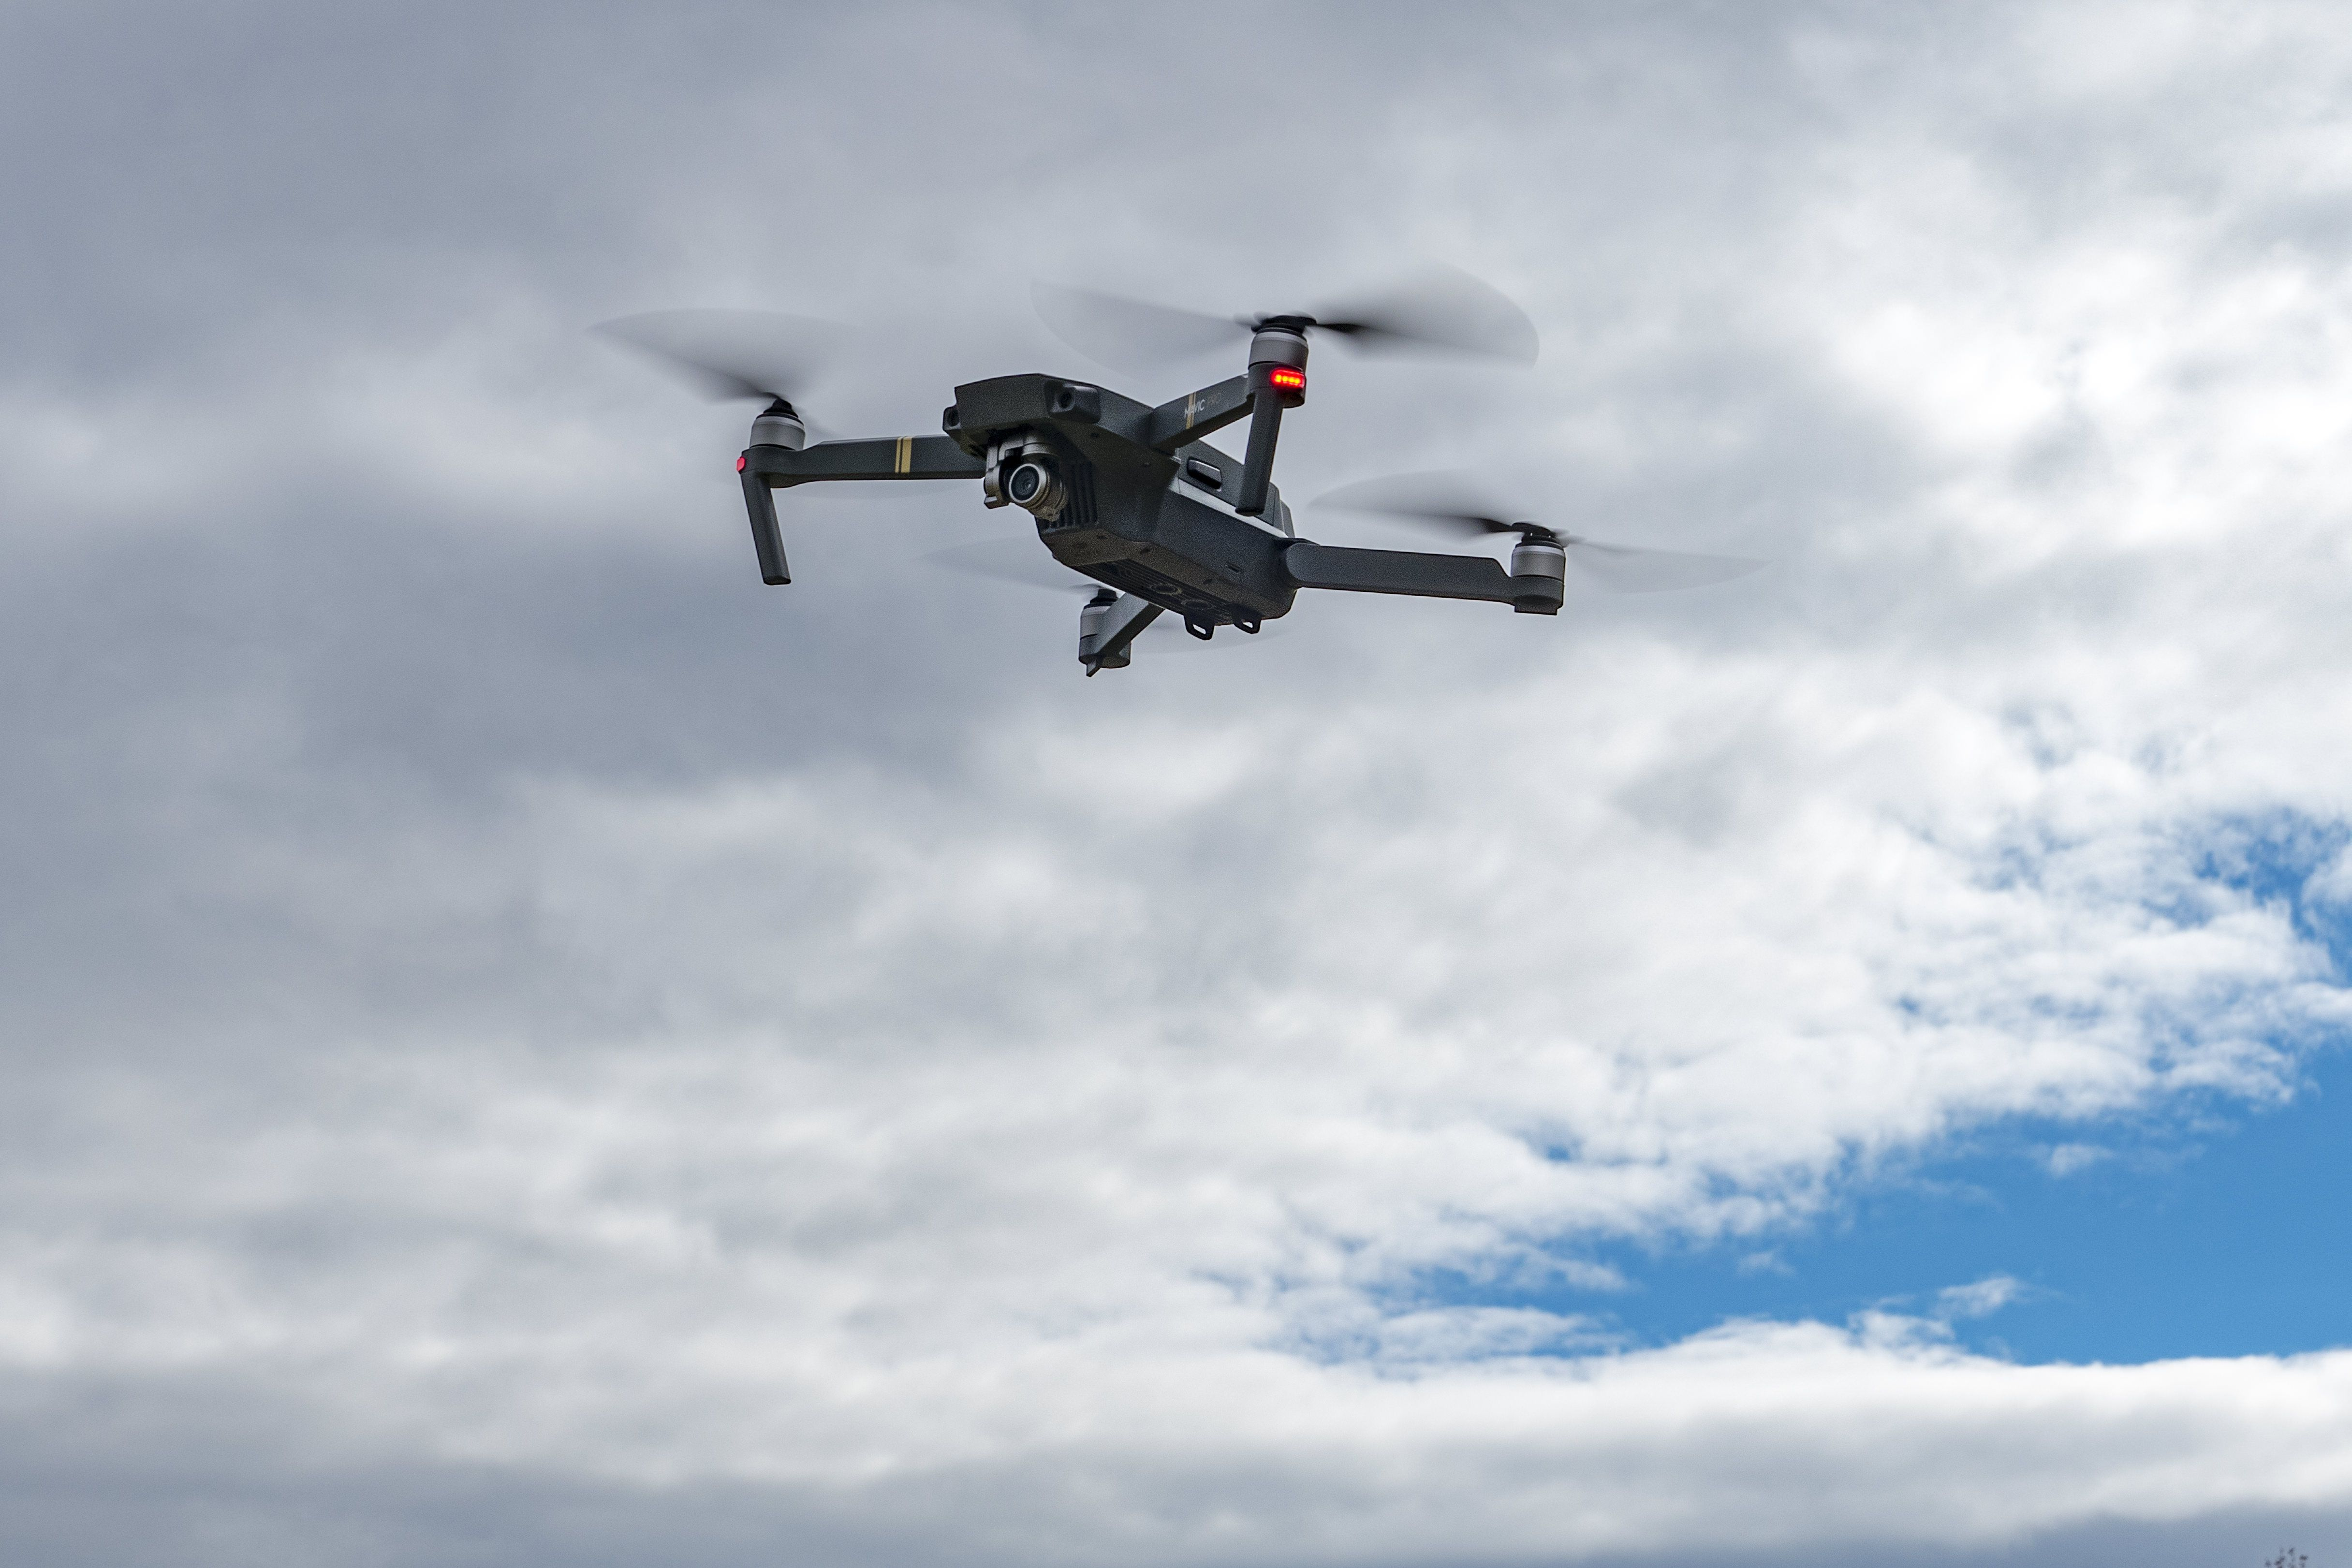drone: (567, 252, 1778, 682)
